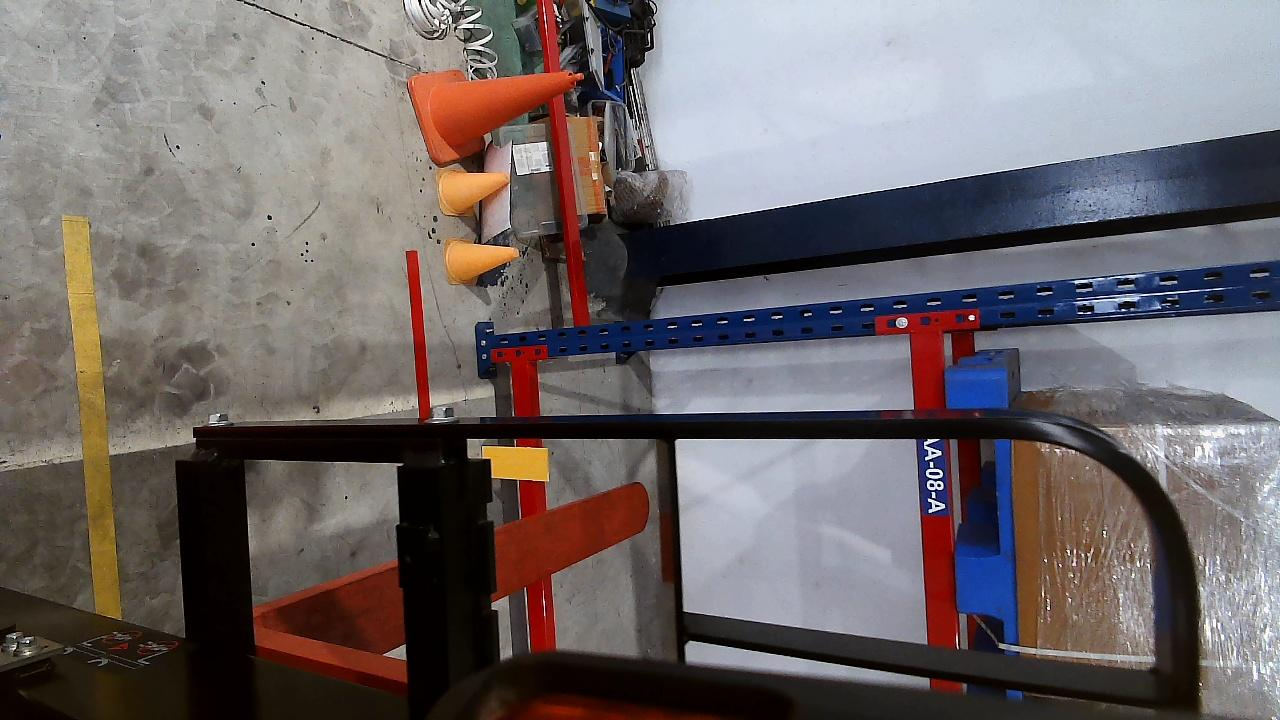h_rack: (512, 357, 555, 648), (912, 331, 947, 645)
orange_strip: (486, 444, 549, 482)
red_line: (404, 250, 432, 420)
small_pallet: (947, 366, 1014, 647)
yellow_line: (58, 214, 120, 622)
